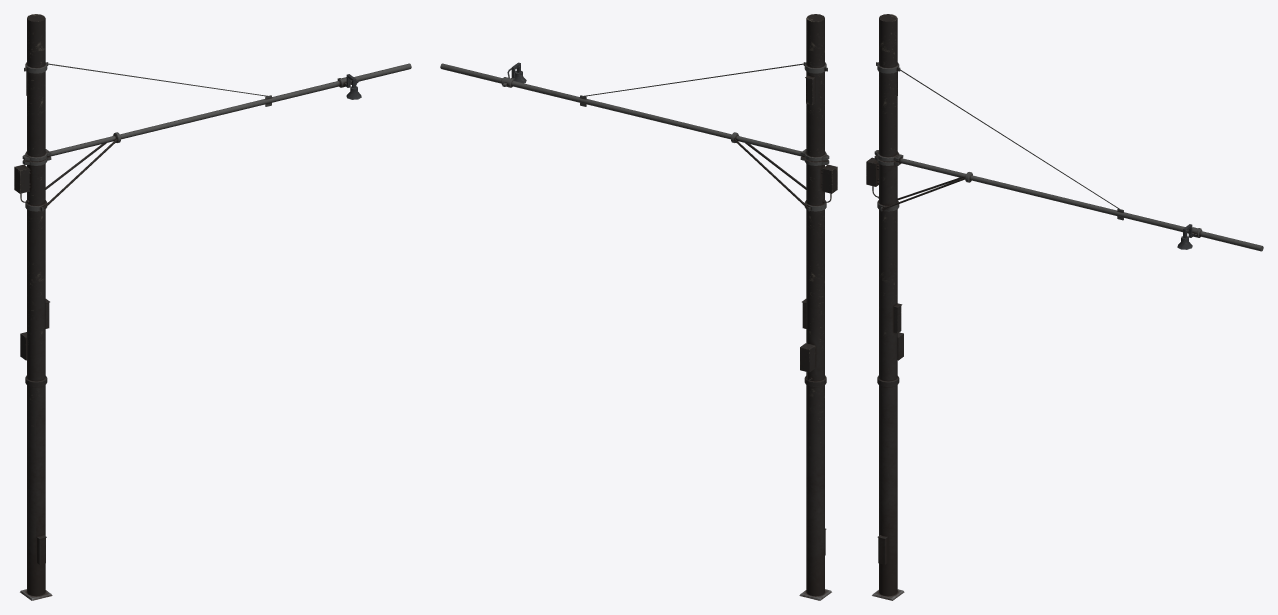
The model's file is jctSensorA.fbx.
The picture shows the model from 3 angles, left to right: view 1: azimuth 30°, elevation 25°; view 2: azimuth 150°, elevation 25°; view 3: azimuth 330°, elevation 25°; orthographic projection.
Visible parts, largest first — view 1: jctSensorA; view 2: jctSensorA; view 3: jctSensorA.
Boxes of the visible parts, left/top/right/bottom form: jctSensorA: left=14, top=14, right=411, bottom=600; jctSensorA: left=440, top=14, right=837, bottom=600; jctSensorA: left=866, top=14, right=1263, bottom=600.
Size of the model in its own units: 537 by 752 by 60.48.
